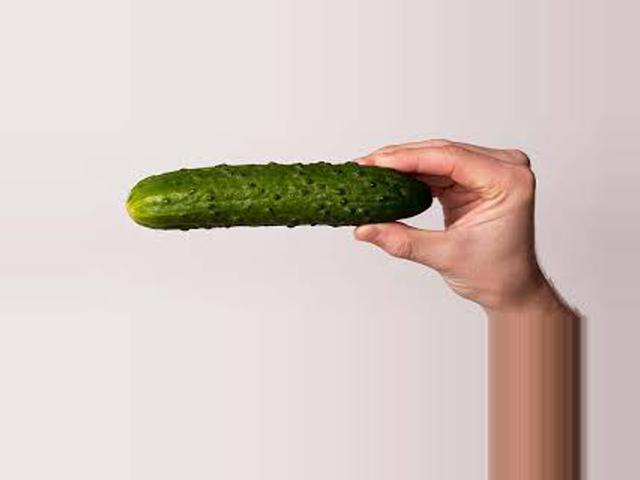cucumber: (128, 163, 432, 224)
